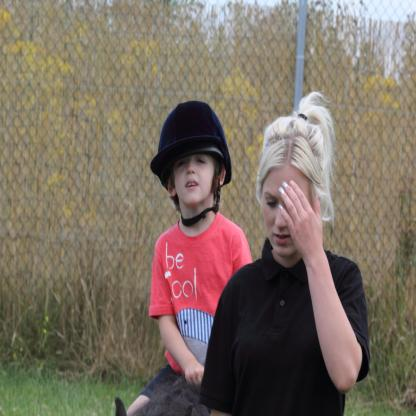Helmet: (150, 102, 232, 220)
